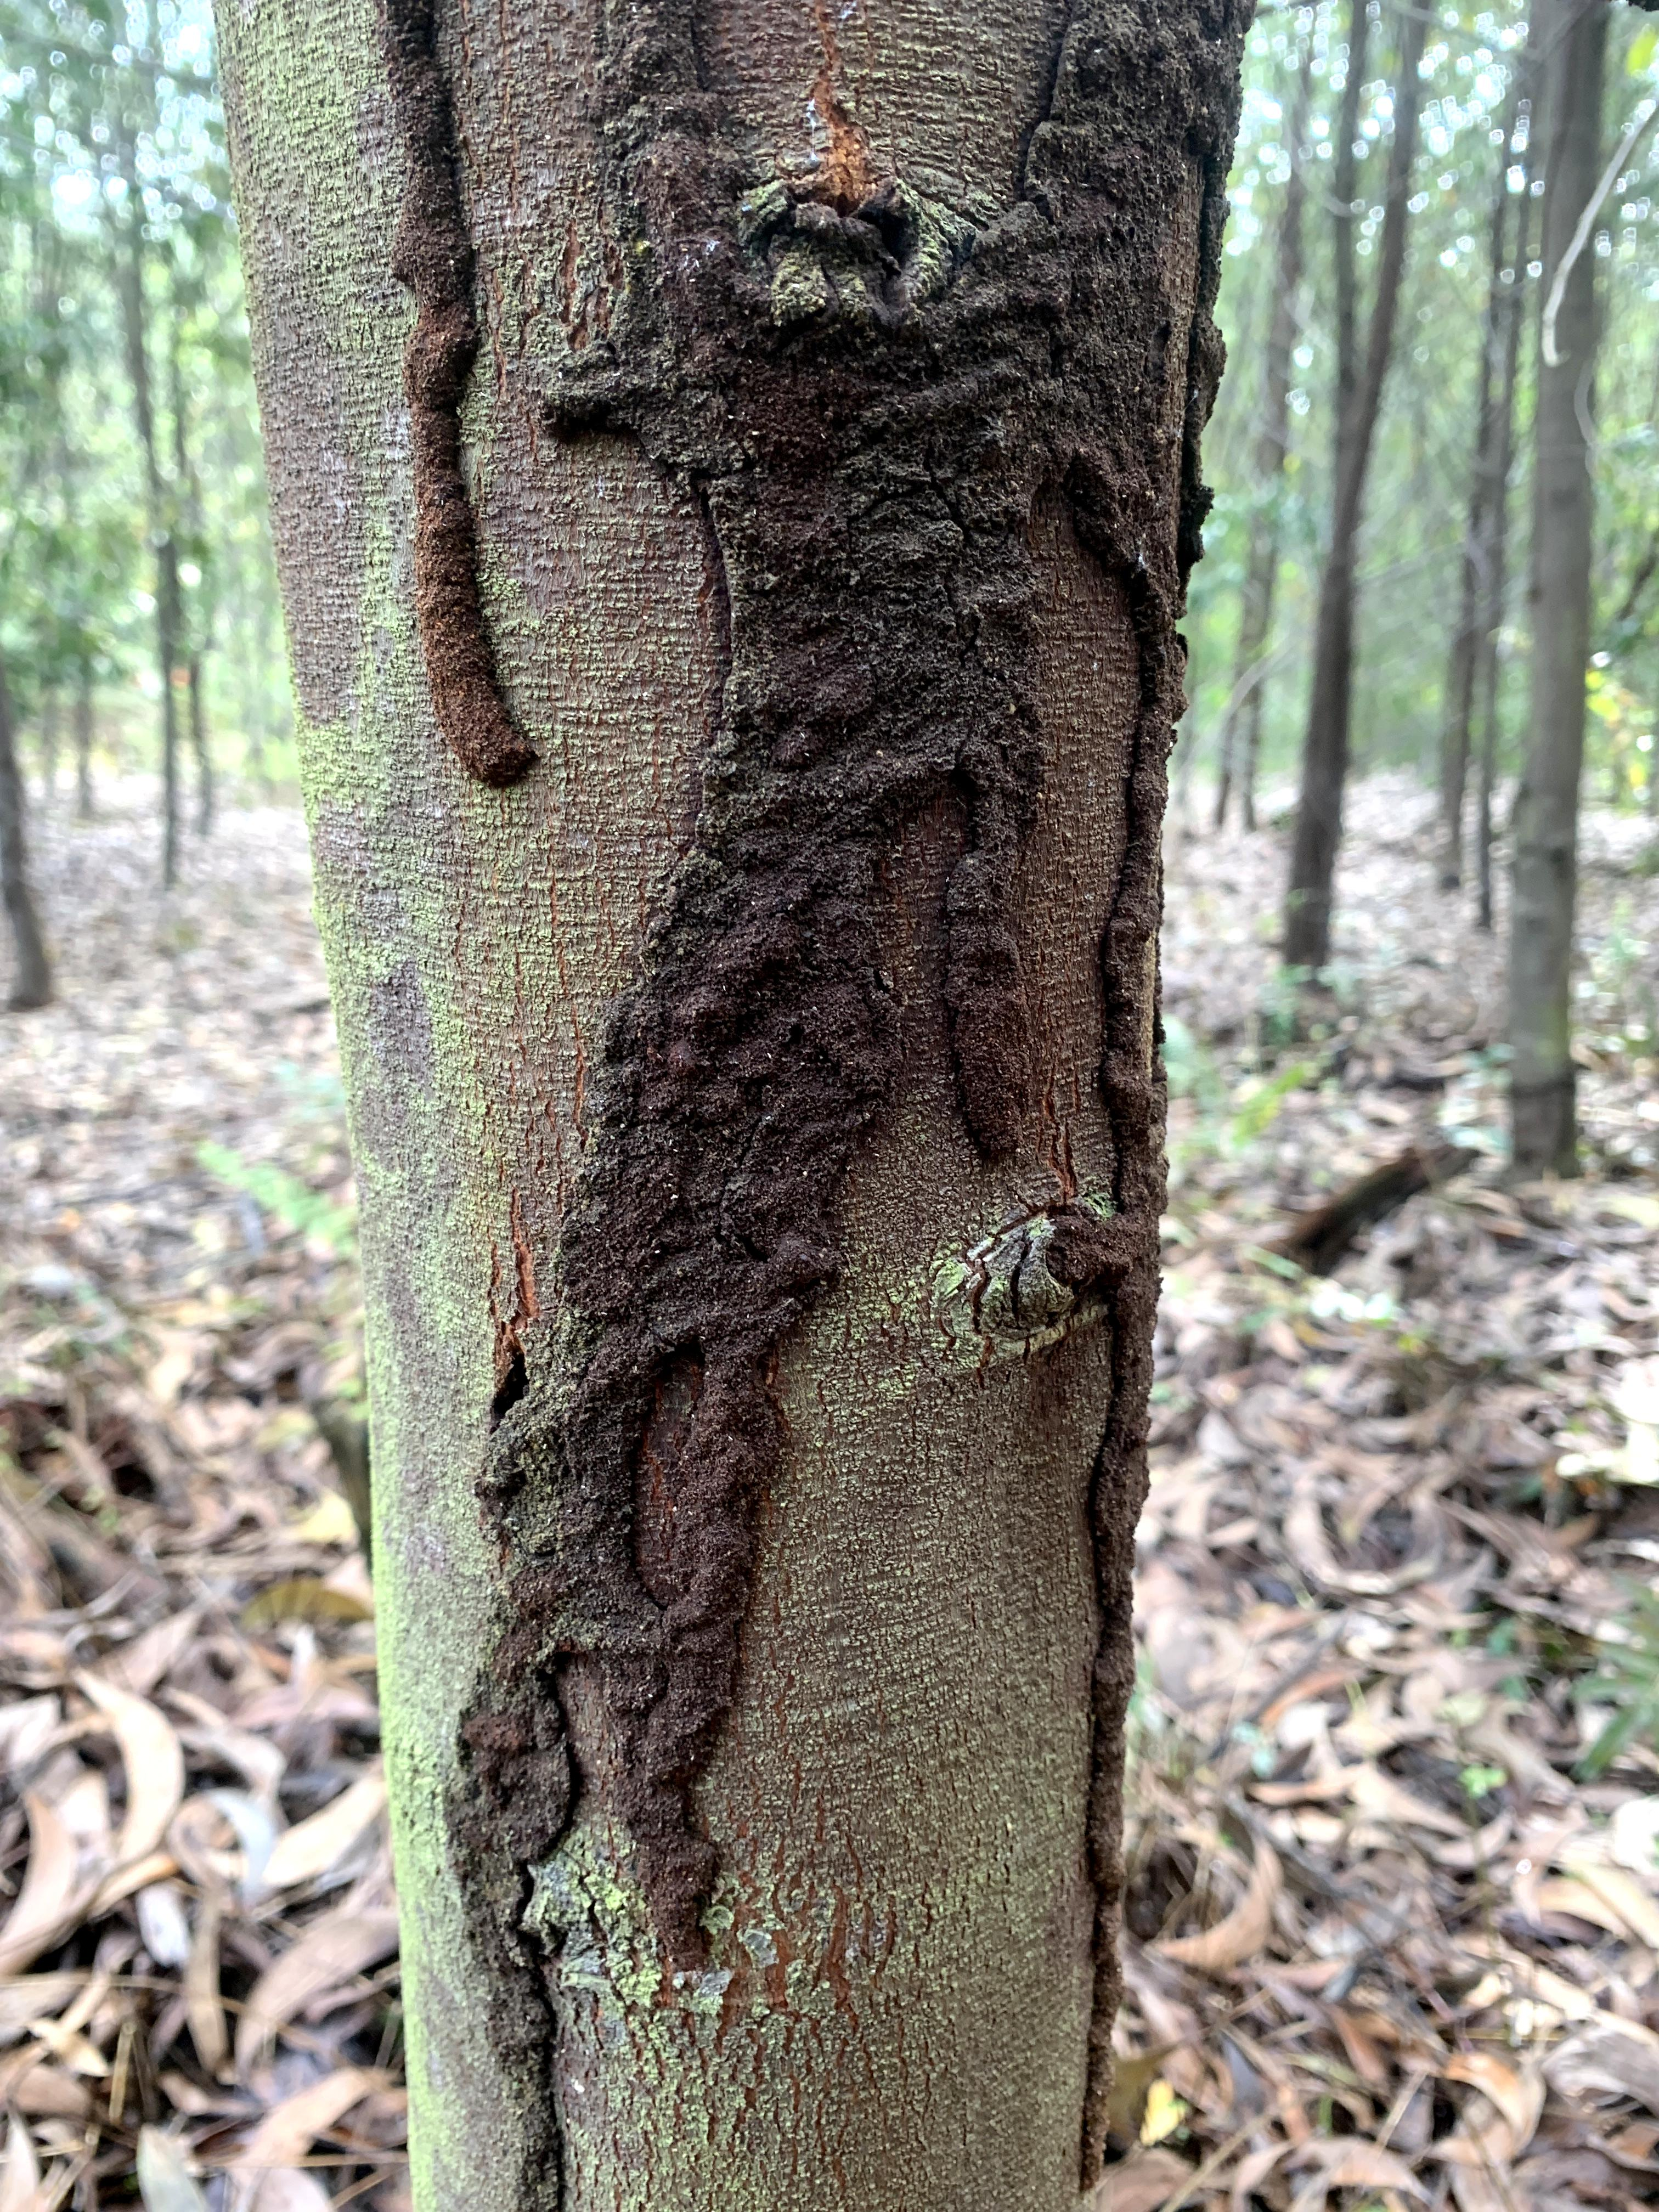Termite - Nest: (457, 2, 1249, 2212), (314, 0, 596, 787)
